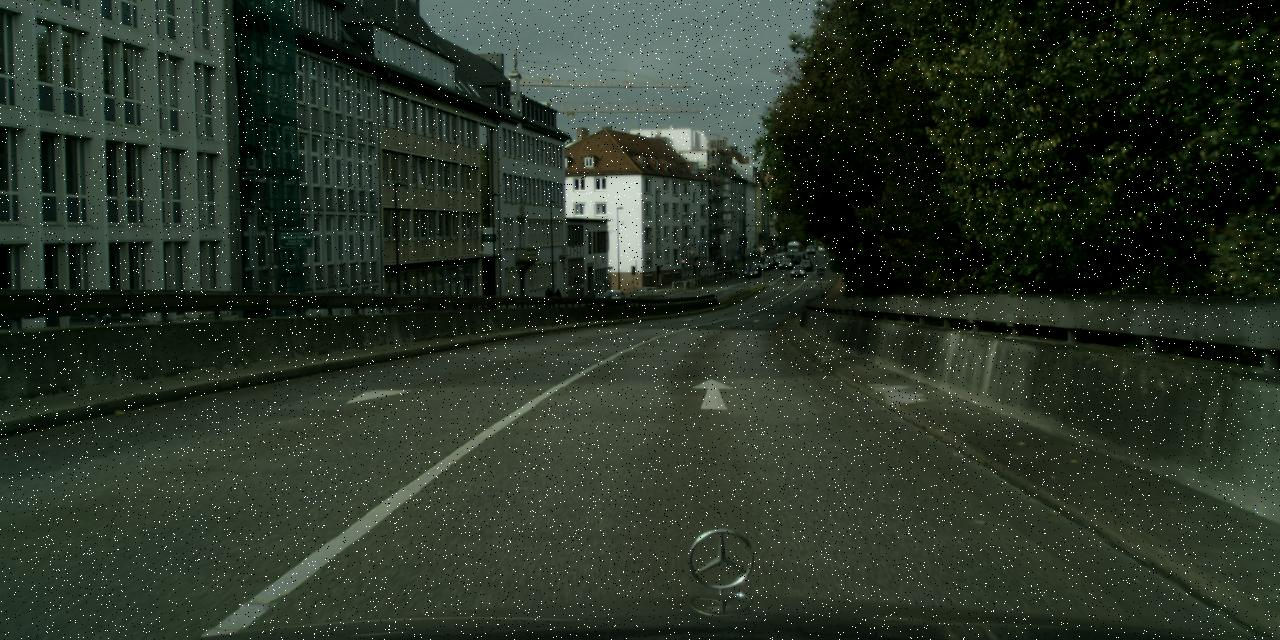ped: (544, 286, 552, 306), (553, 289, 560, 307)
